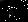person: (11, 7, 17, 18)
